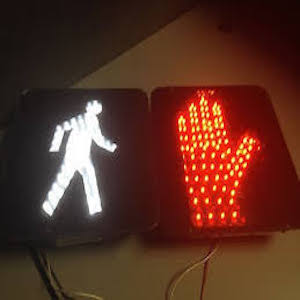green: (45, 94, 131, 217)
red: (170, 92, 270, 226)
